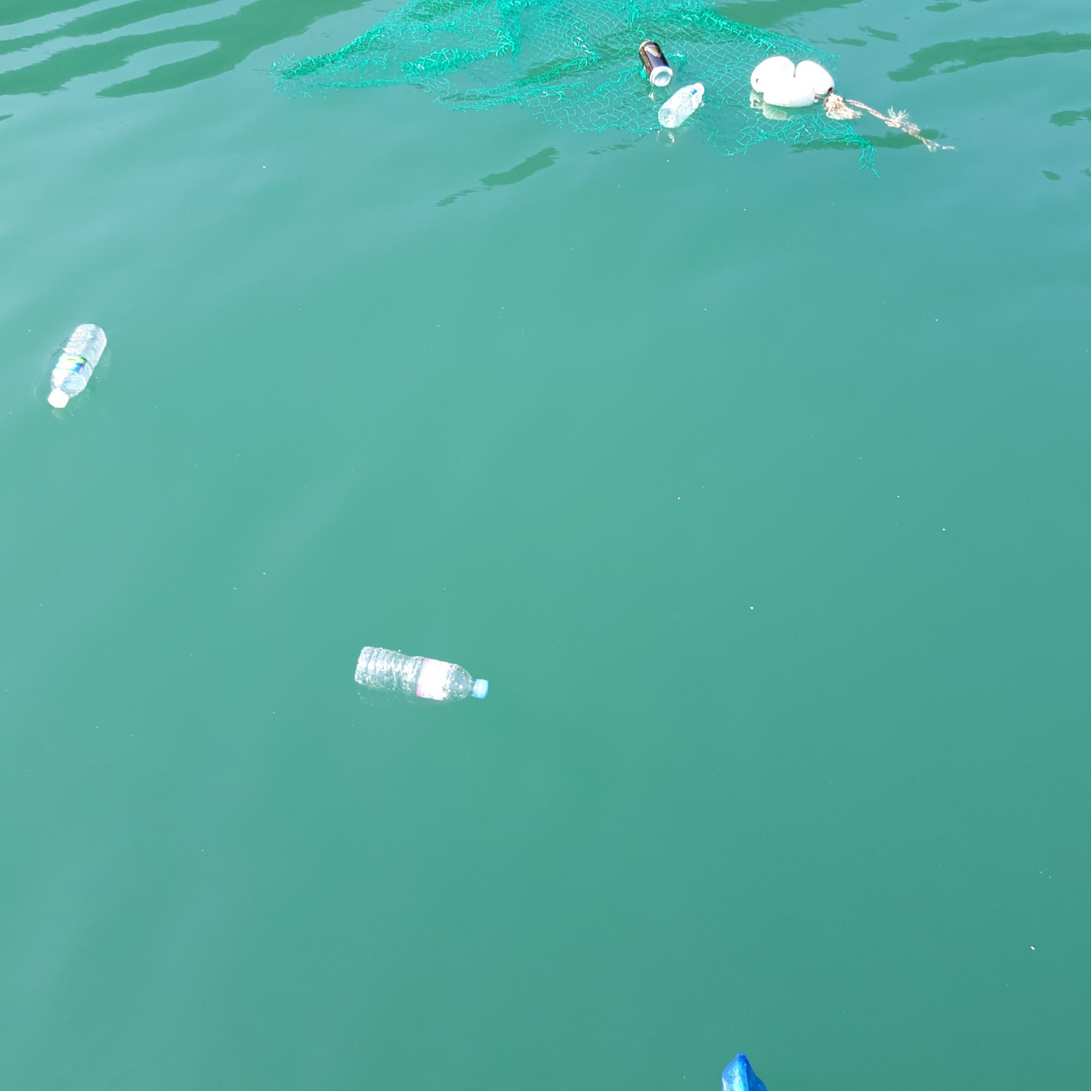sampah_terapung: (253, 1, 880, 177), (815, 91, 956, 153), (355, 646, 488, 703), (47, 324, 108, 409), (659, 84, 705, 128), (639, 42, 674, 88), (763, 78, 816, 108), (752, 57, 795, 93), (796, 61, 835, 95)
